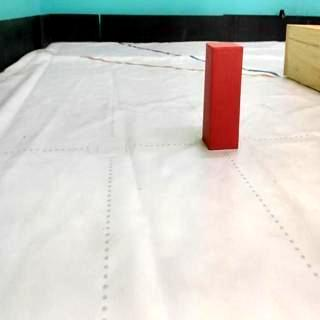redbox: (202, 42, 244, 152)
